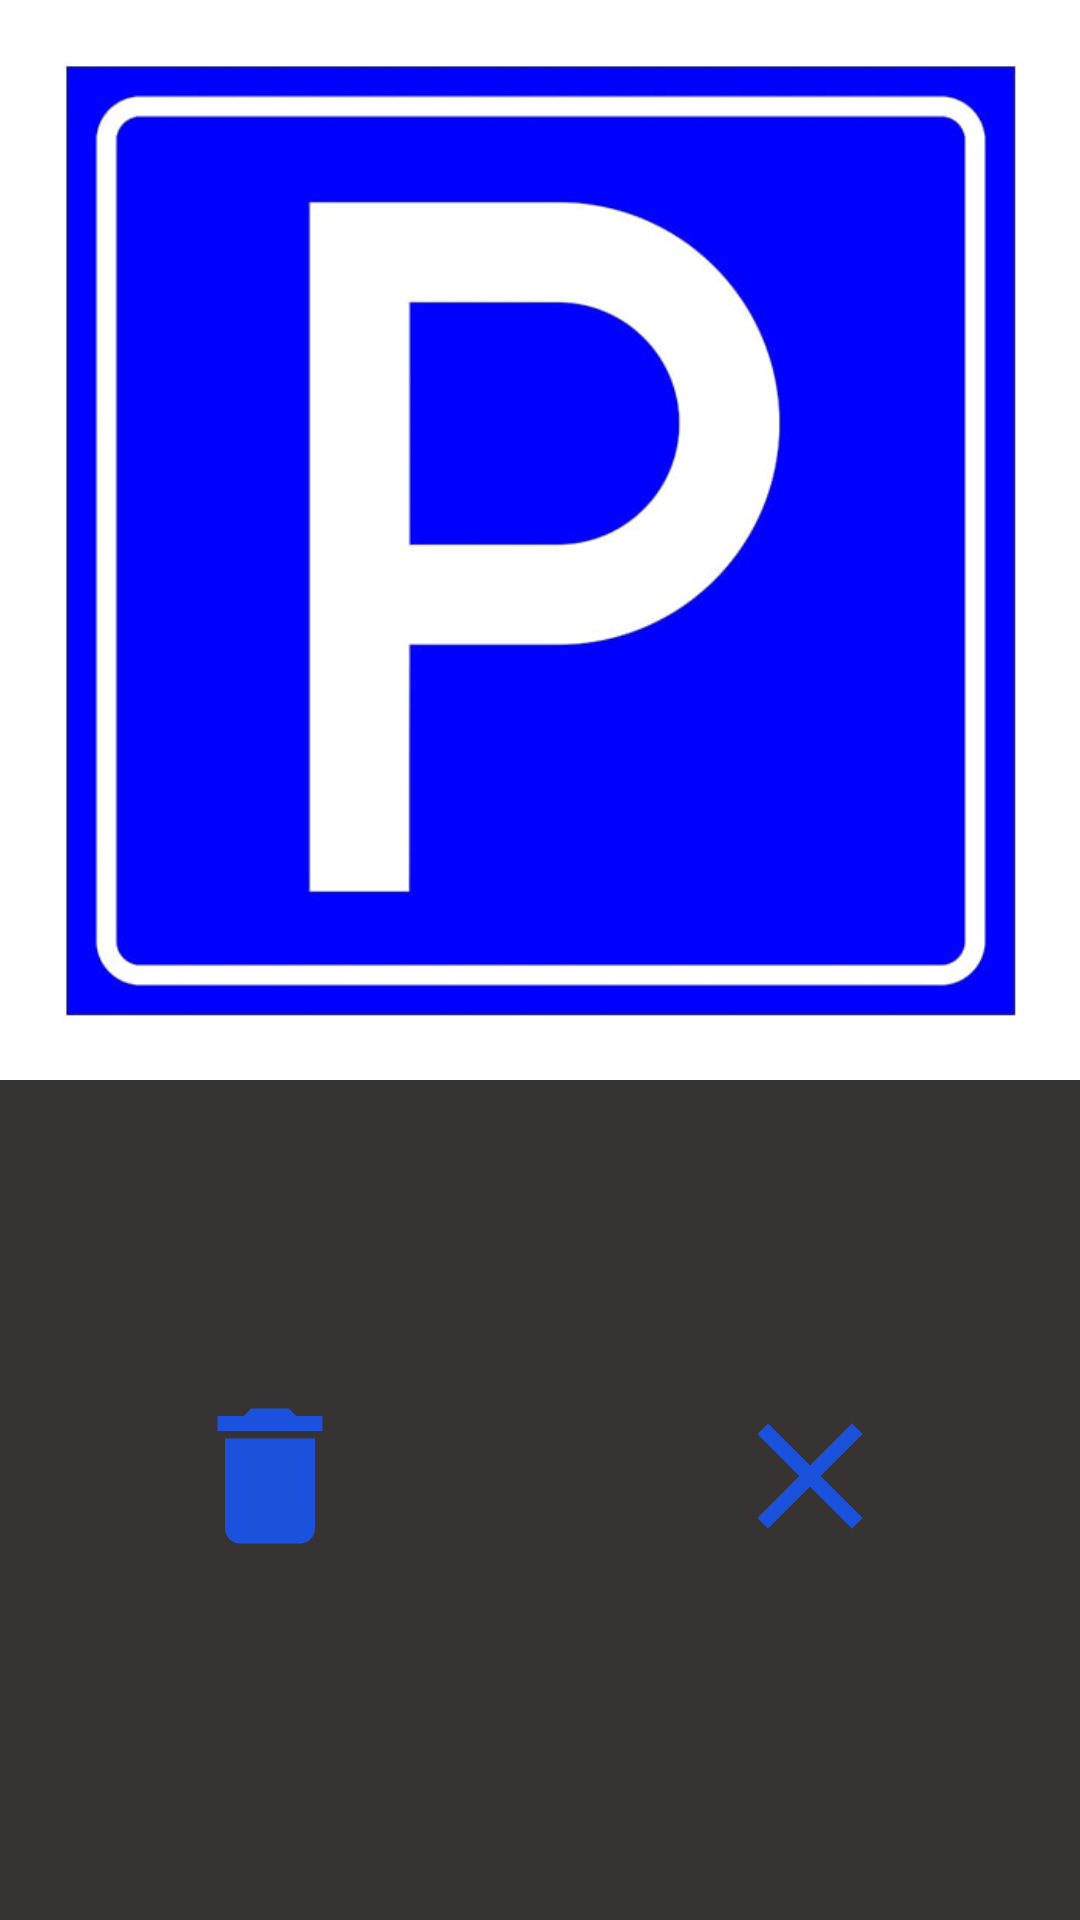

Icon bounding boxes for this 1080*1920 phone screenshot, format (x1, y1, x2, y2):
close: (758, 1423, 862, 1529)
delete: (217, 1408, 323, 1544)
